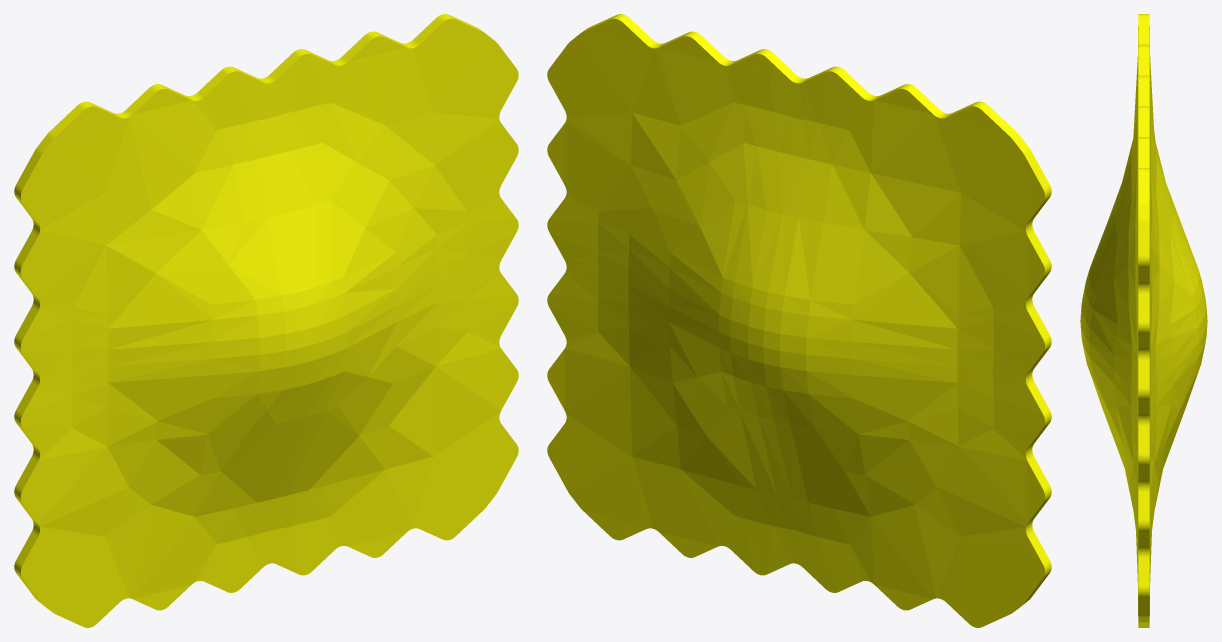
Rendered from raviolo.dae.
3 renders of one model, left to right at view 1: azimuth 30°, elevation 25°; view 2: azimuth 150°, elevation 25°; view 3: azimuth 270°, elevation 25°, orthographic. The views are drawn at different scales.
Parts seen in each view (by area): view 1: node0; view 2: node0; view 3: node0.
Part boxes in pixels (x1=…): node0: x1=14, y1=14, x2=518, y2=627; node0: x1=547, y1=14, x2=1051, y2=627; node0: x1=1080, y1=14, x2=1207, y2=627.
Bounding box in the file's own units: 0.0437 × 0.011 × 0.0437.
